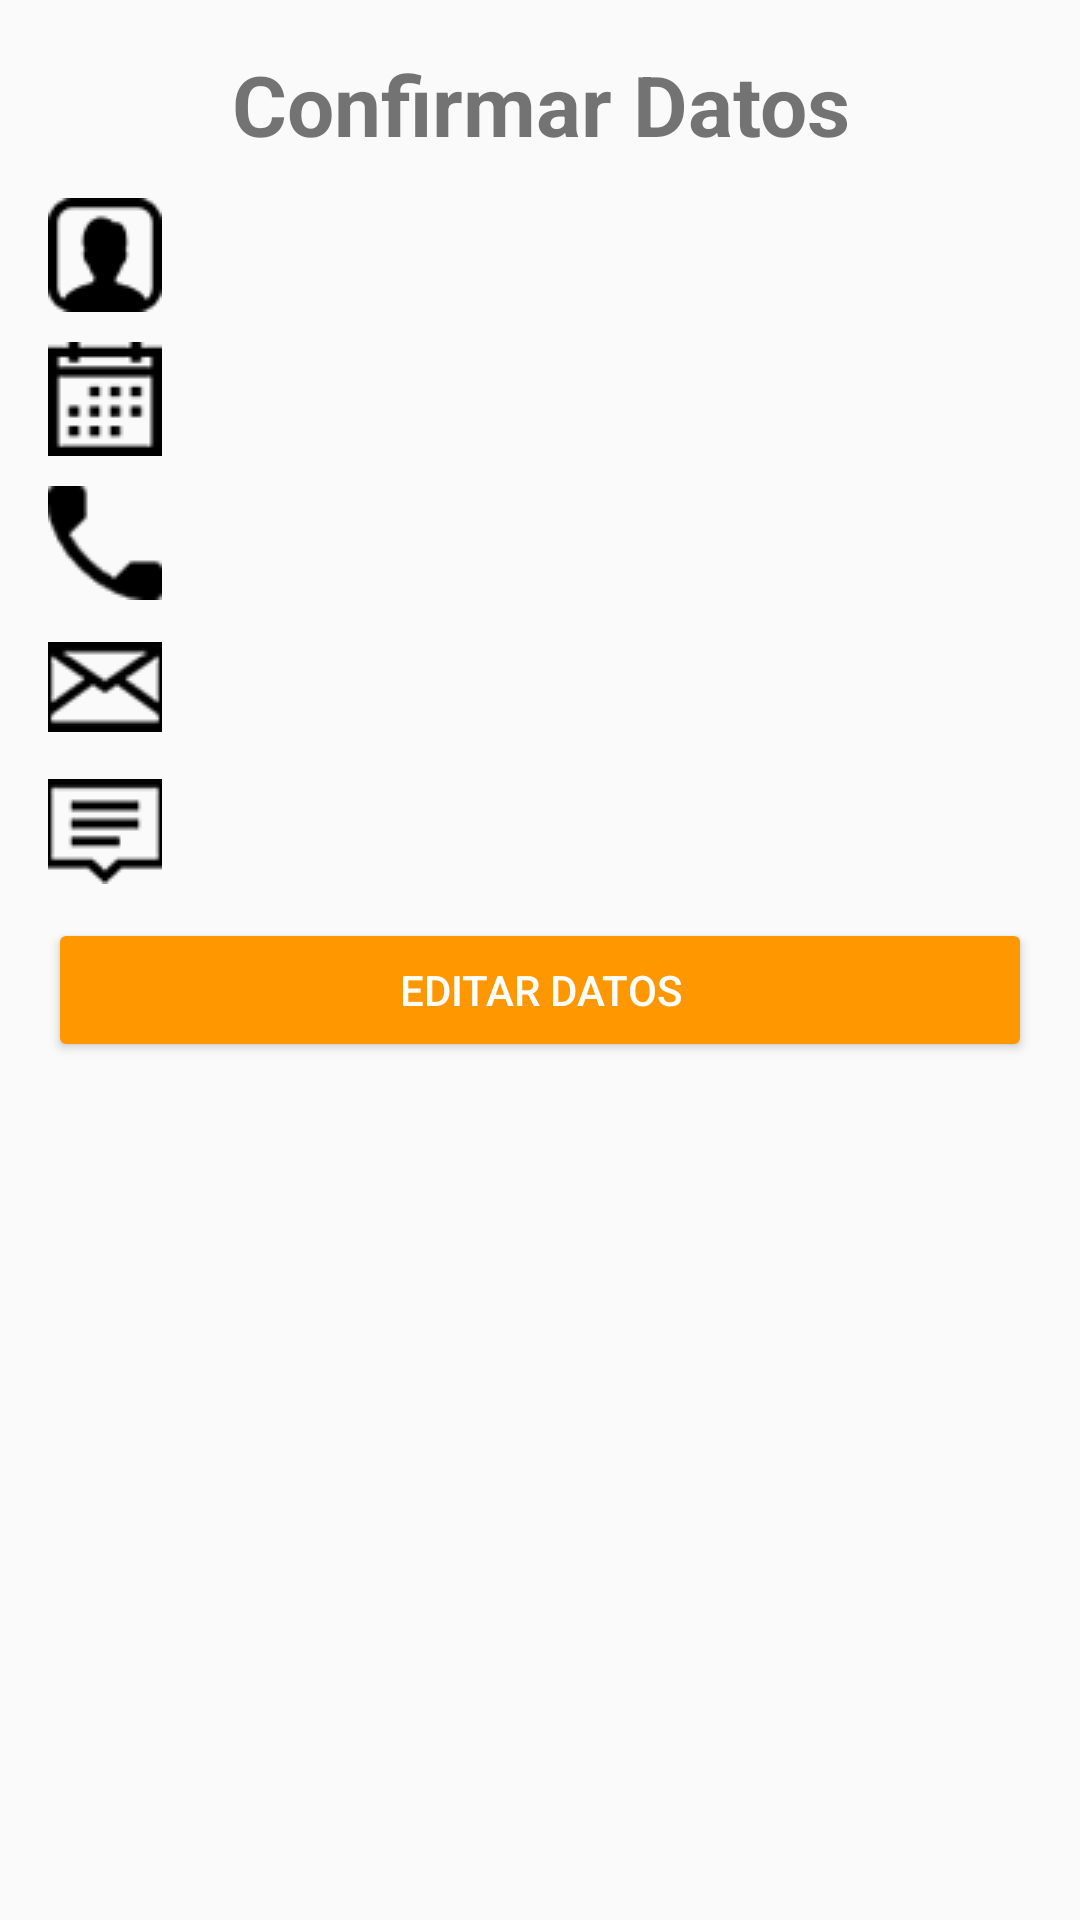

Where to tap for icons on this 1080w x 1920h app screen, as [x,y]:
descripcion: [105,831]
fech nacimiento: [105,399]
mail: [105,687]
telefono: [105,543]
